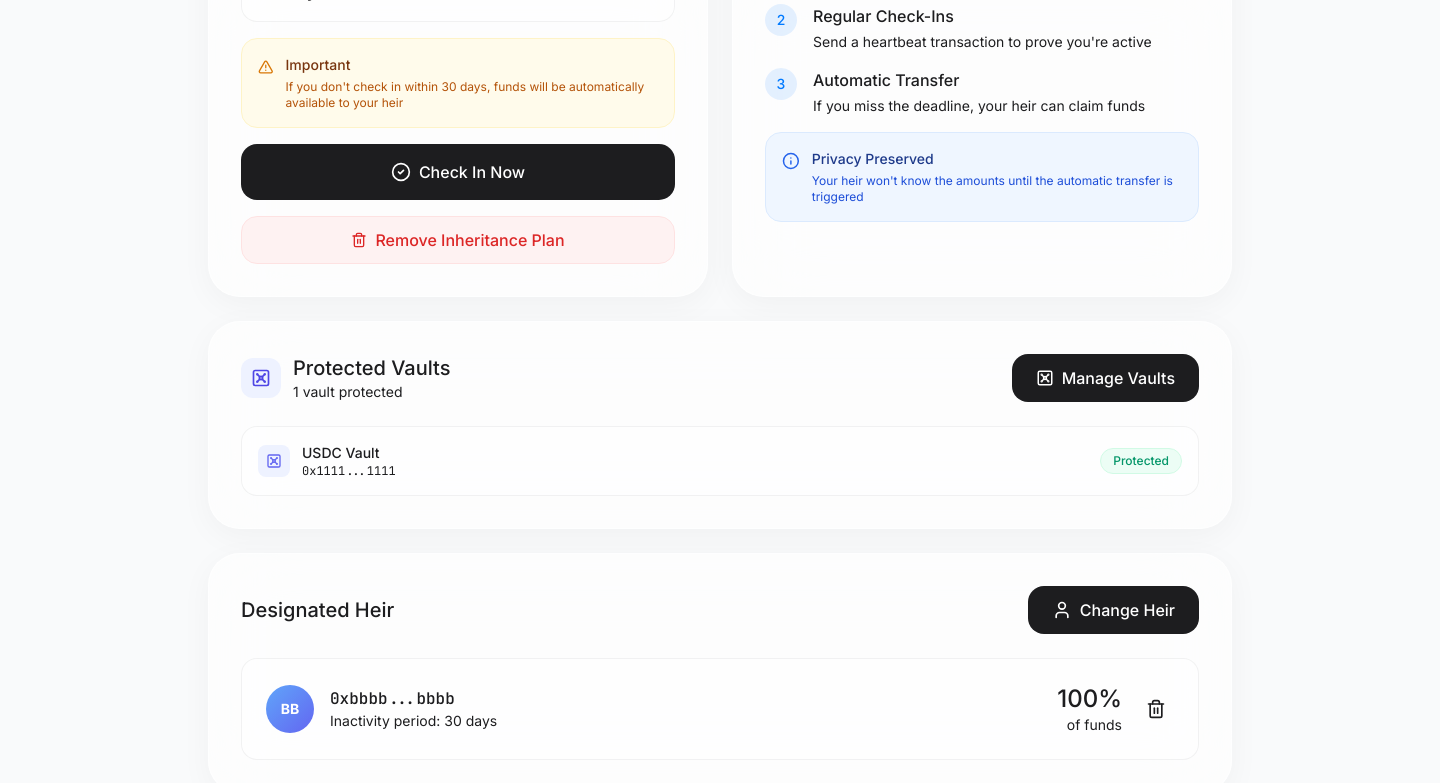
Test case: InheritancePlanning — Vault selector modal (§15.x) › Cancel button closes modal without saving
The width and height of the screenshot is (1440, 783).
(page scrolled)
Click the button "Manage Vaults" at (1105, 378), box [1012, 354, 1199, 402]
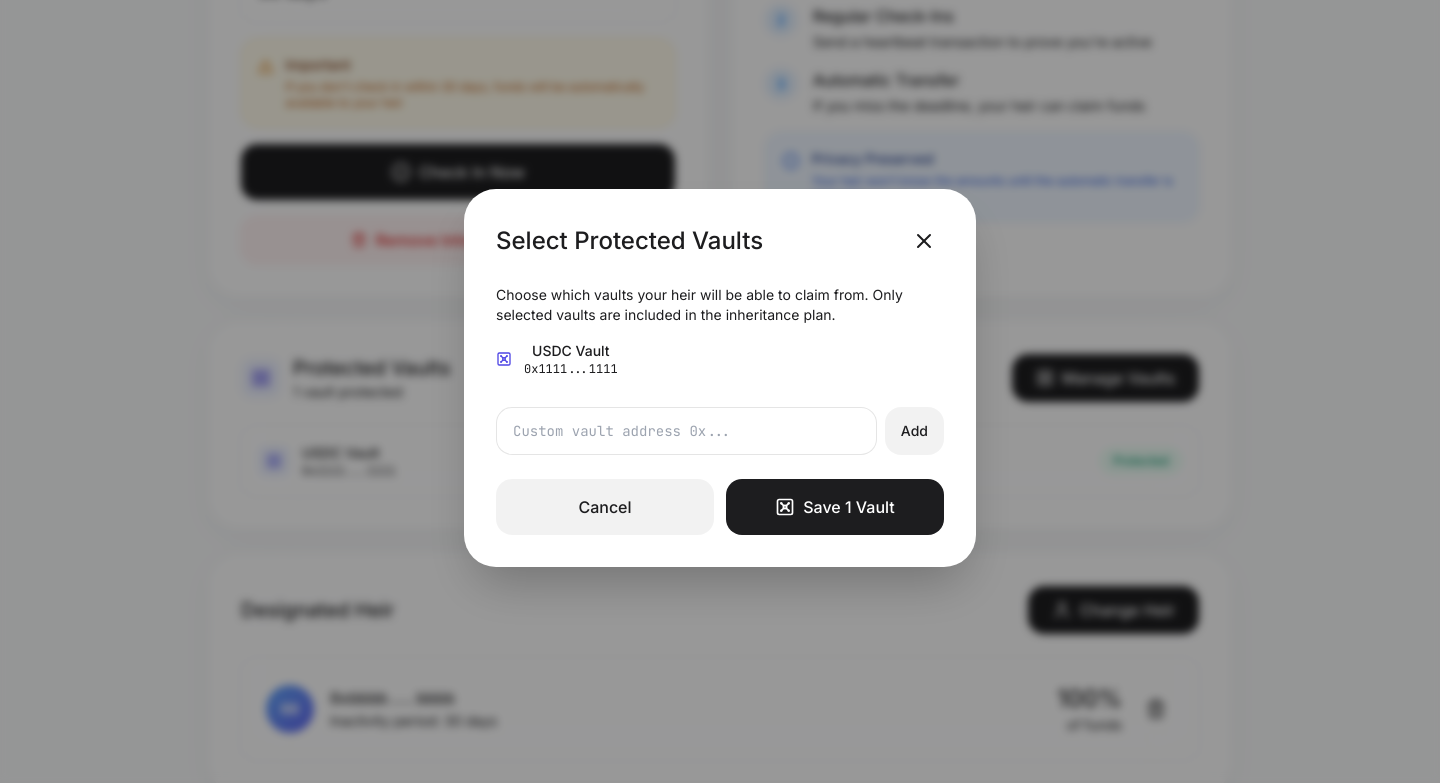
Click the button "Cancel" at (605, 507), box [496, 479, 714, 535]
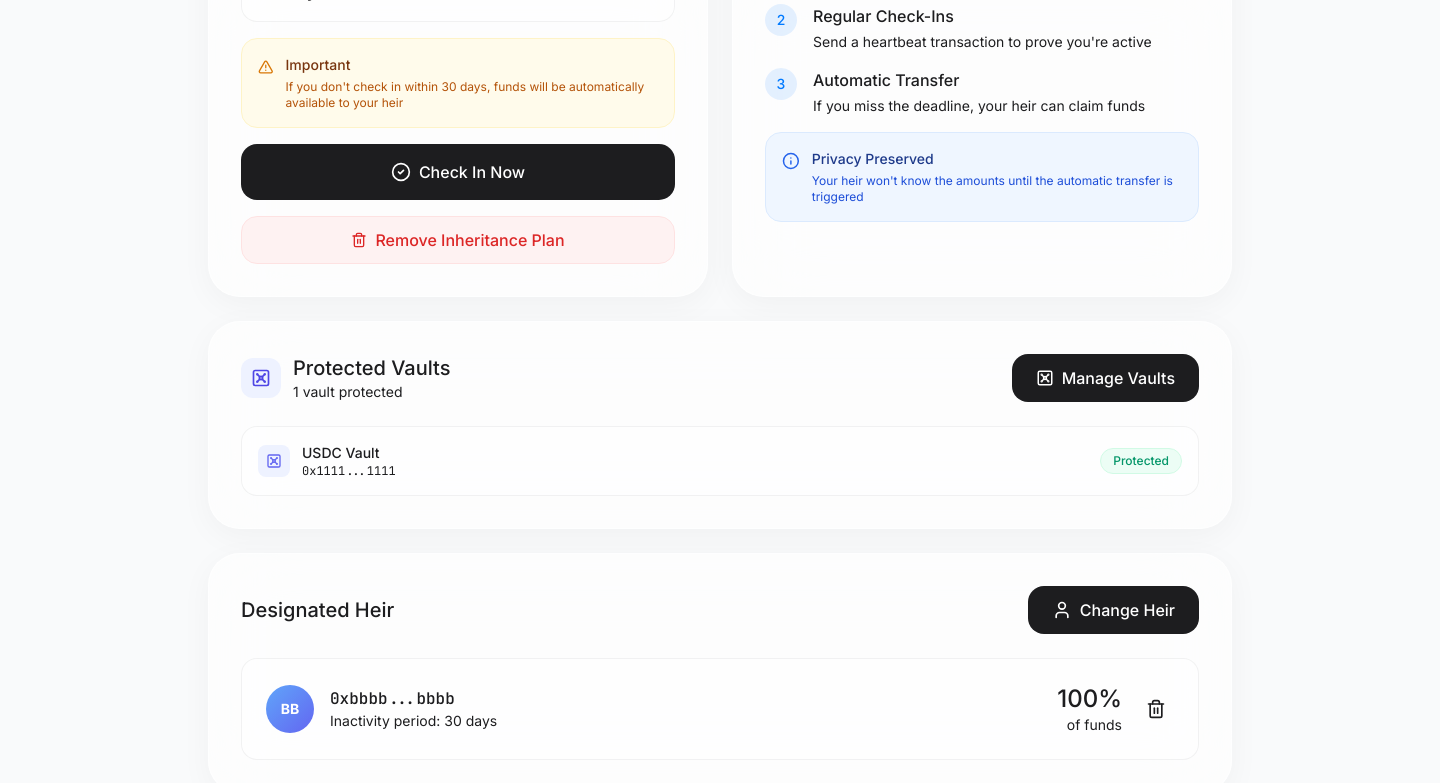
Now the text "Select Protected Vaults" is gone
